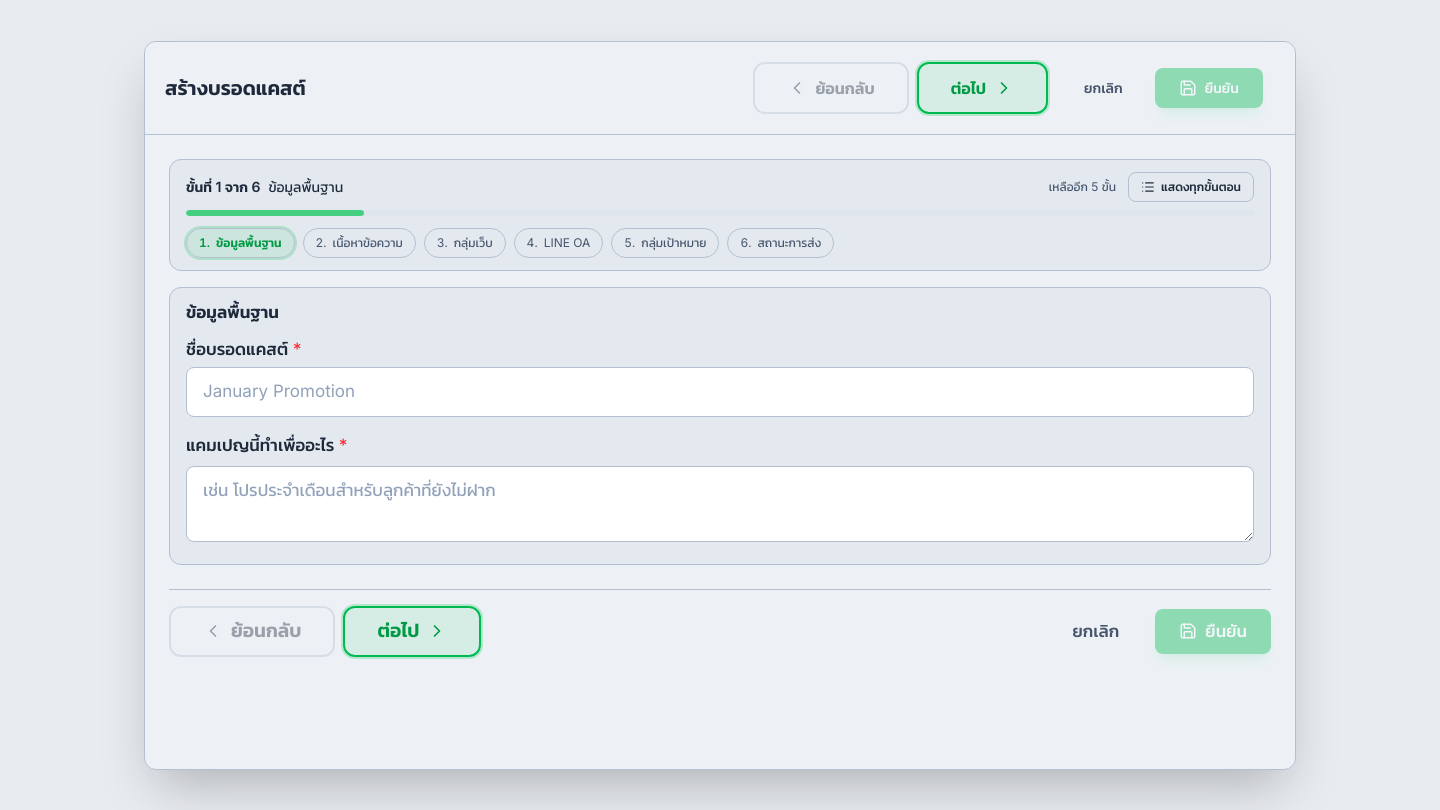
[NOSTEPSKIP] create — ขั้นแรกยังไม่ครบ ห้ามขยับ › ⭐⭐ กด "ต่อไป" ทั้งที่ชื่อว่าง → อยู่ขั้น 1 เท่าเดิม + error โชว์
The image size is (1440, 810).
Click the button with test id "wizard-next" at [982, 88], box [917,62,1048,114]
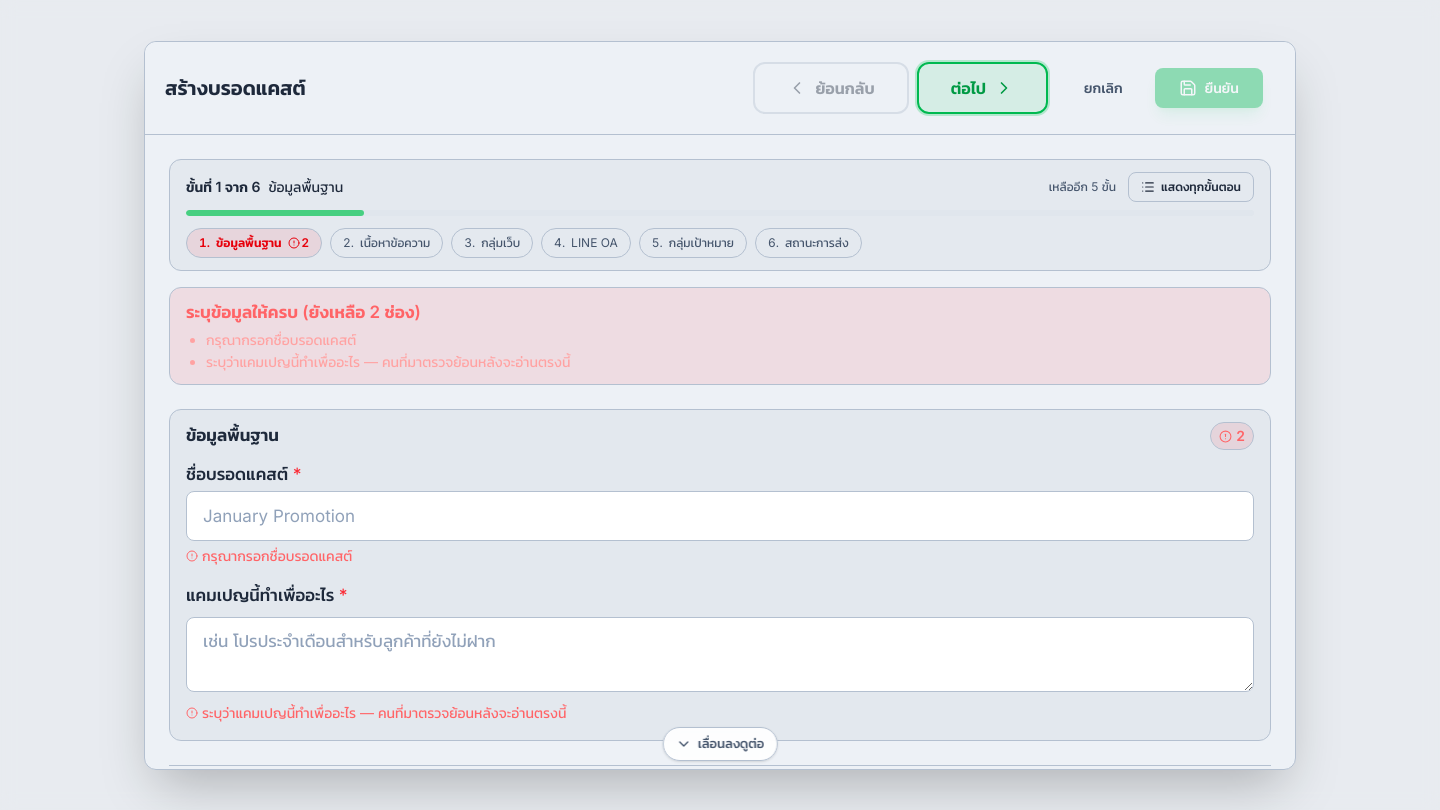
Now the element with test id "wizard-step-badge-section-basic" is shown, box [288,234,309,250]
